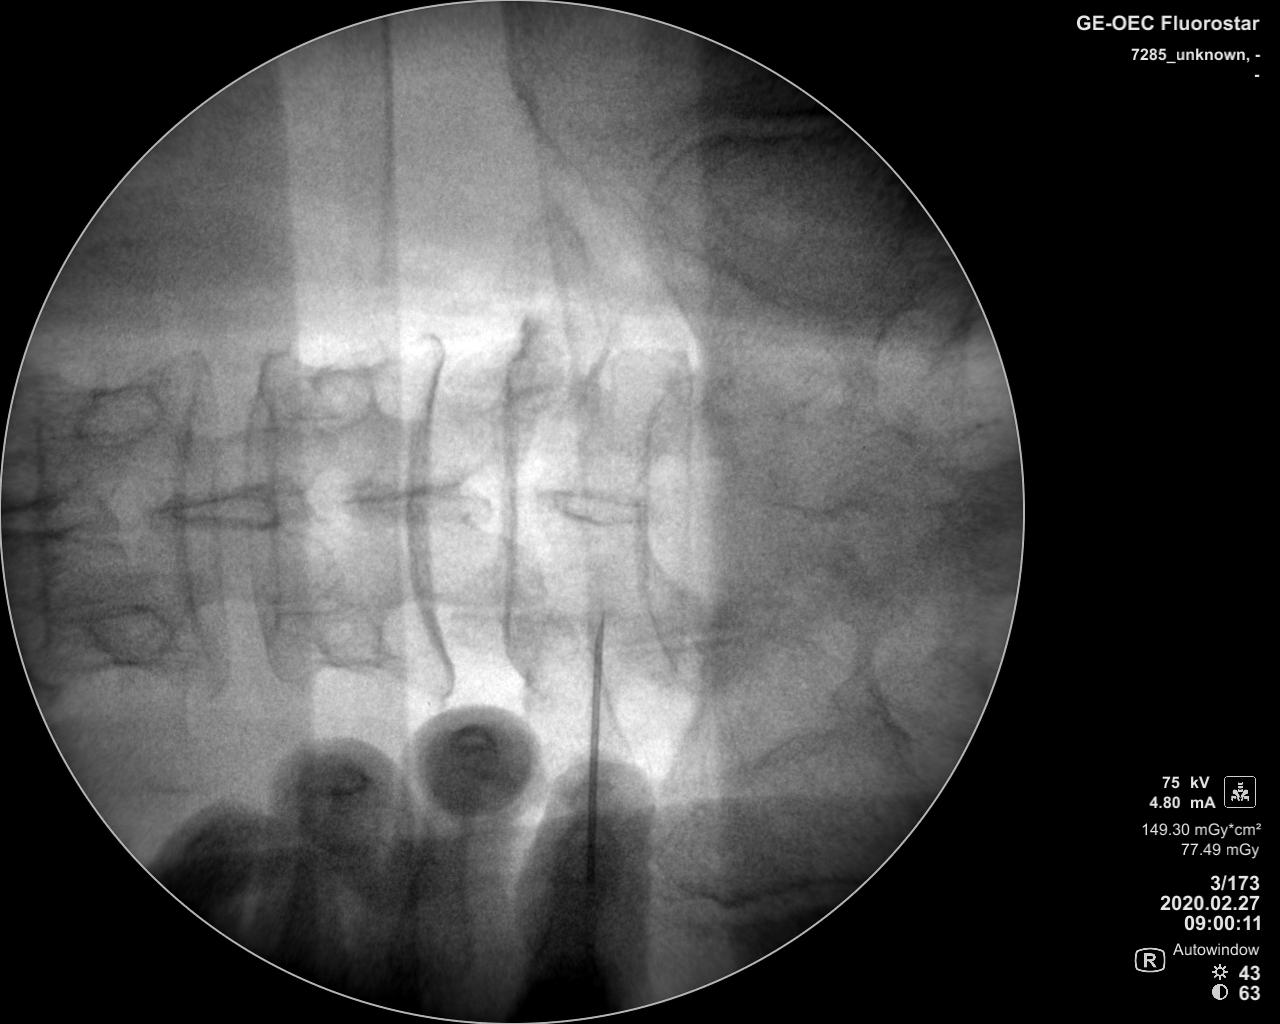eyes: (276, 355, 376, 433), (287, 600, 385, 675), (67, 382, 161, 451), (83, 602, 172, 668)
line: (170, 345, 232, 689), (411, 333, 459, 701), (647, 354, 702, 664), (239, 338, 283, 677), (499, 320, 526, 675), (28, 374, 59, 653)
nose: (157, 469, 324, 532), (336, 478, 492, 531), (1, 487, 130, 543), (538, 480, 656, 534)
